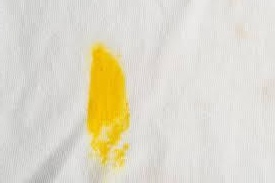mustard: (81, 47, 136, 165)
